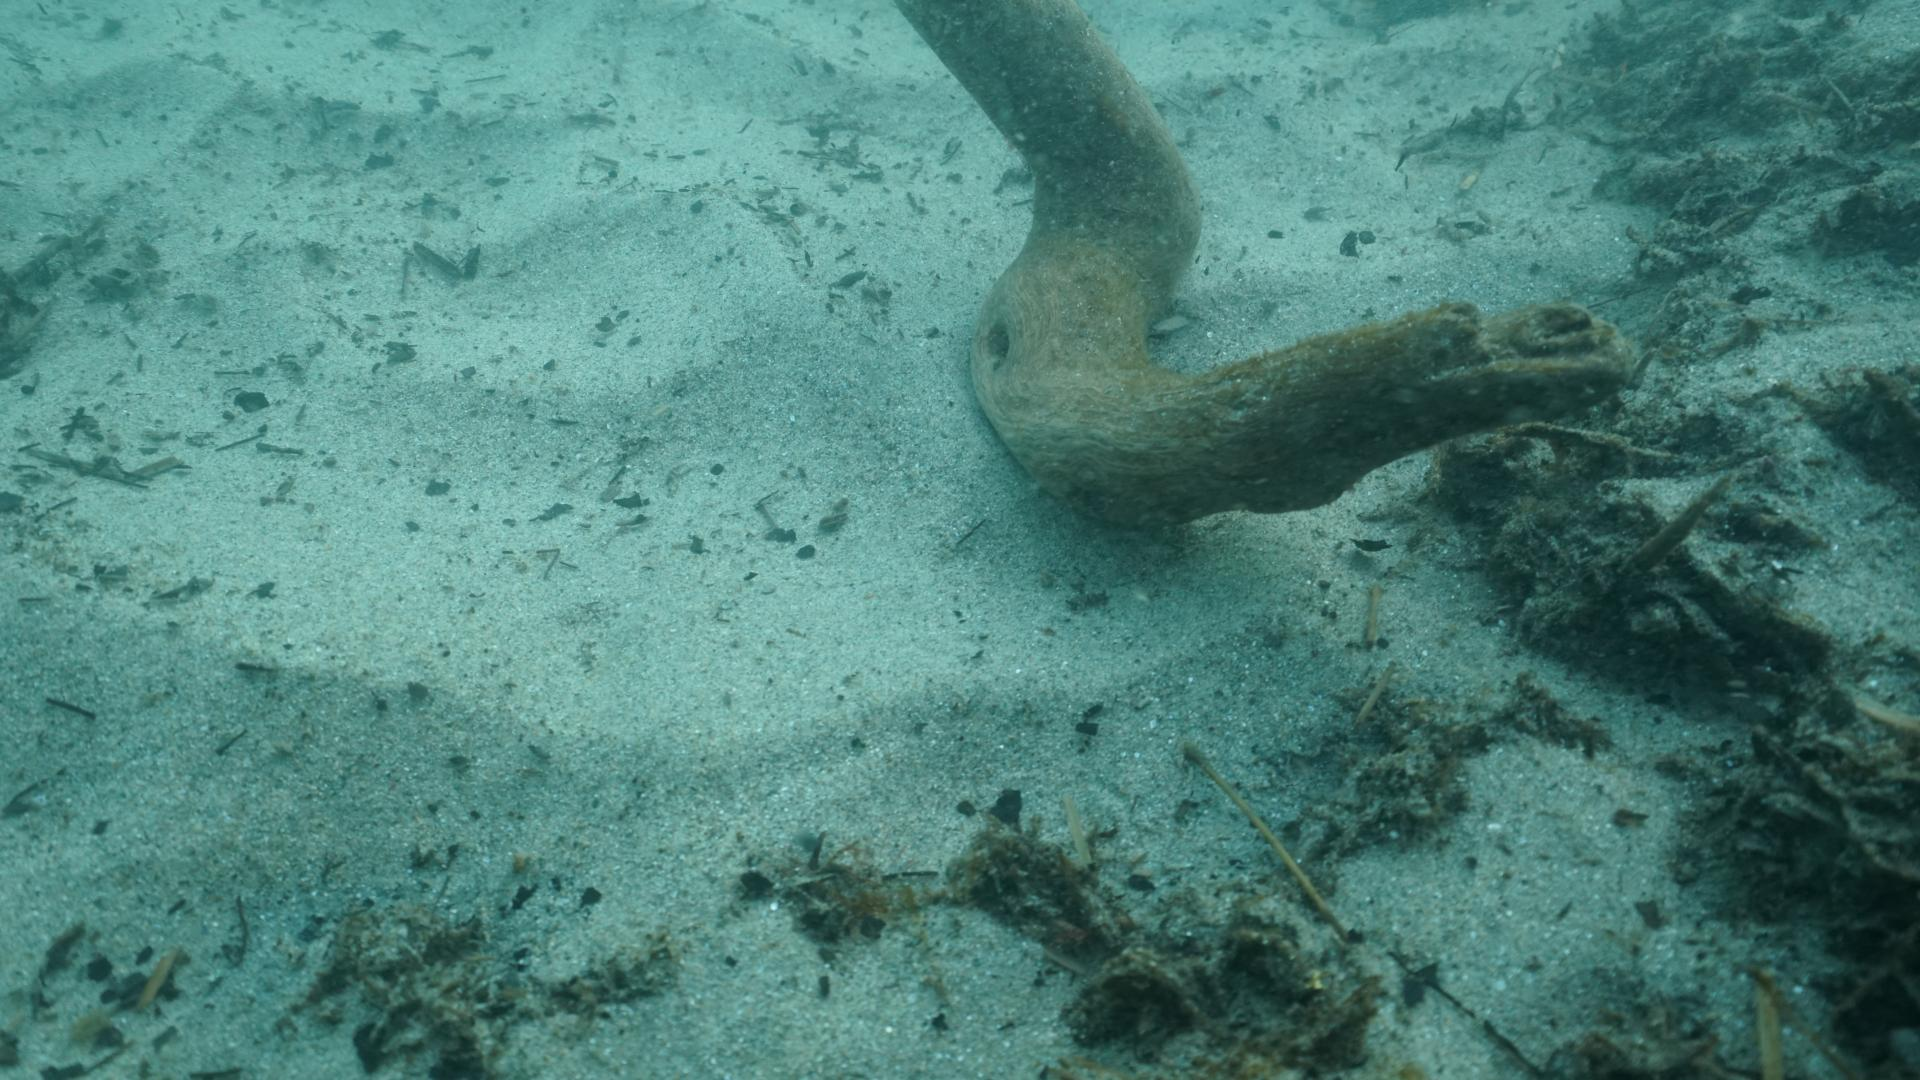wood: (886, 0, 1635, 529)
